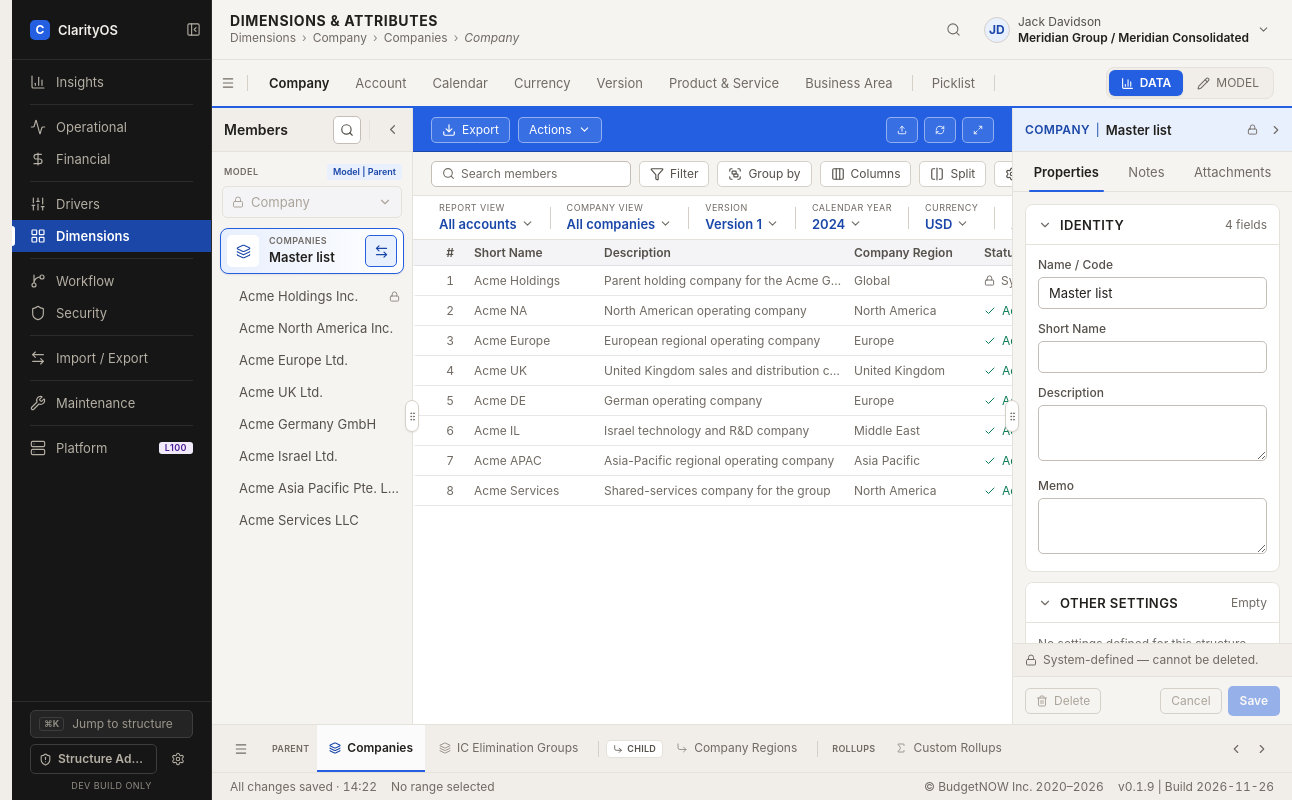
Test: AppShell › MODEL recolours the chrome, adds authoring controls and removes the master-list properties pane
Click the button "MODEL".
click(1228, 83)  # box 1185,70 -> 1271,96
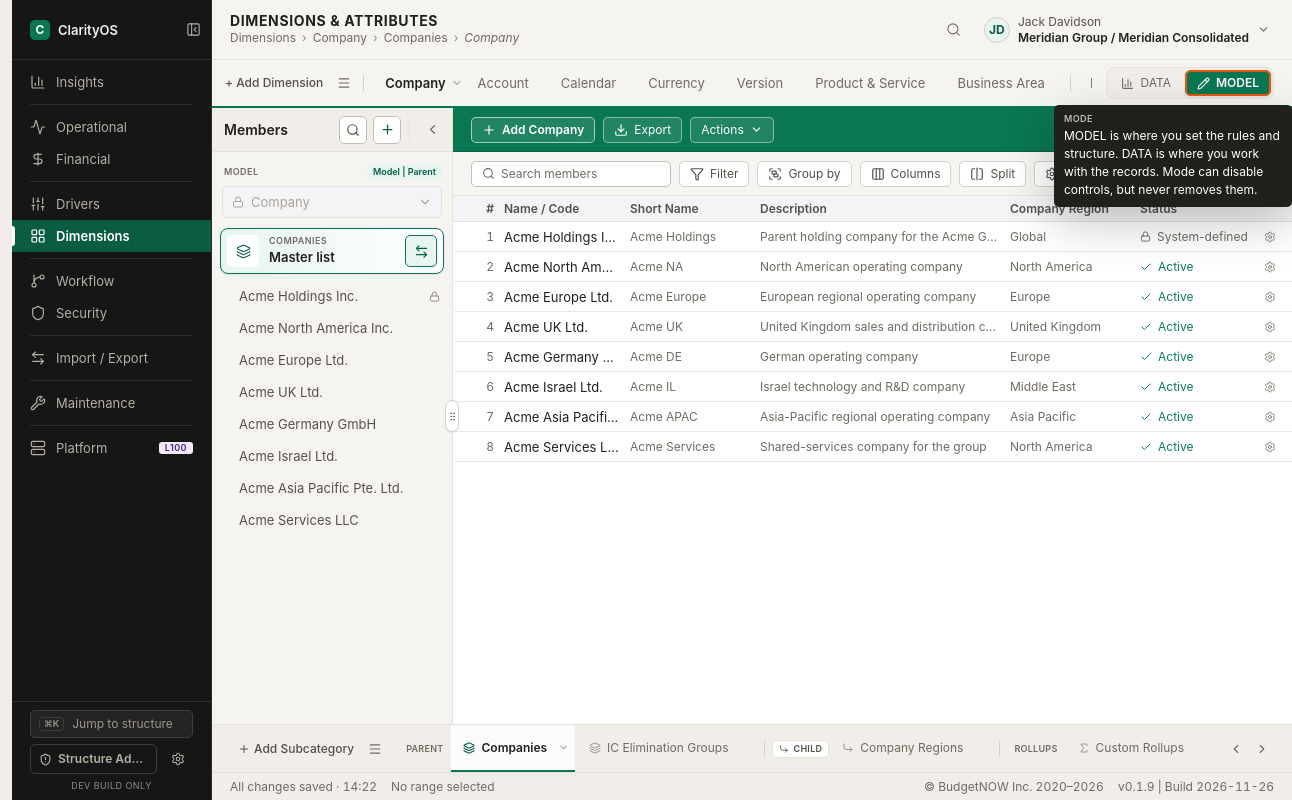
Now the button named "Add Company" is shown, box 373,116 -> 401,144
Now the button "Add Subcategory" is shown, box 230,738 -> 362,760
Now the tab "Properties" is gone
